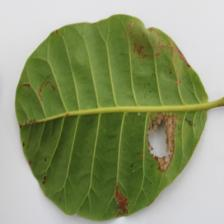leaf miner: (142, 110, 178, 176), (113, 180, 133, 215)
